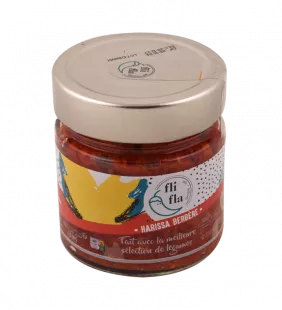FLIFLA: (44, 27, 236, 284)
